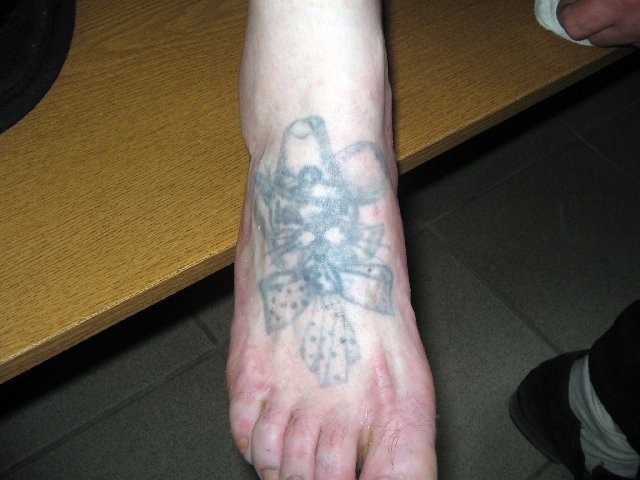tatu8_kot: (228, 105, 419, 393)
